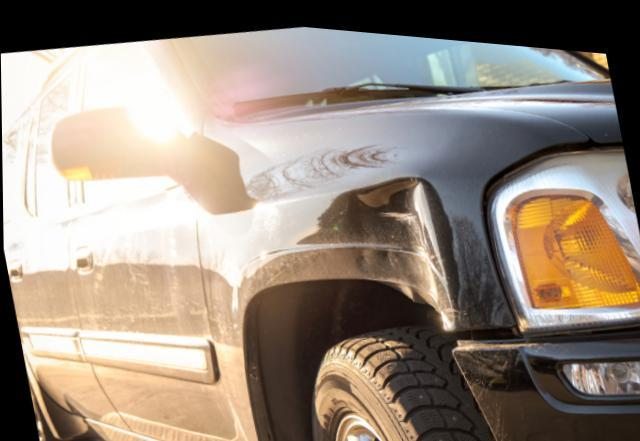dent: (330, 171, 452, 319)
